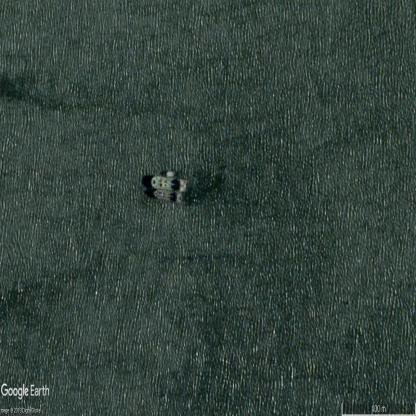ship: (151, 177, 187, 193), (152, 190, 183, 204), (164, 169, 174, 176)
